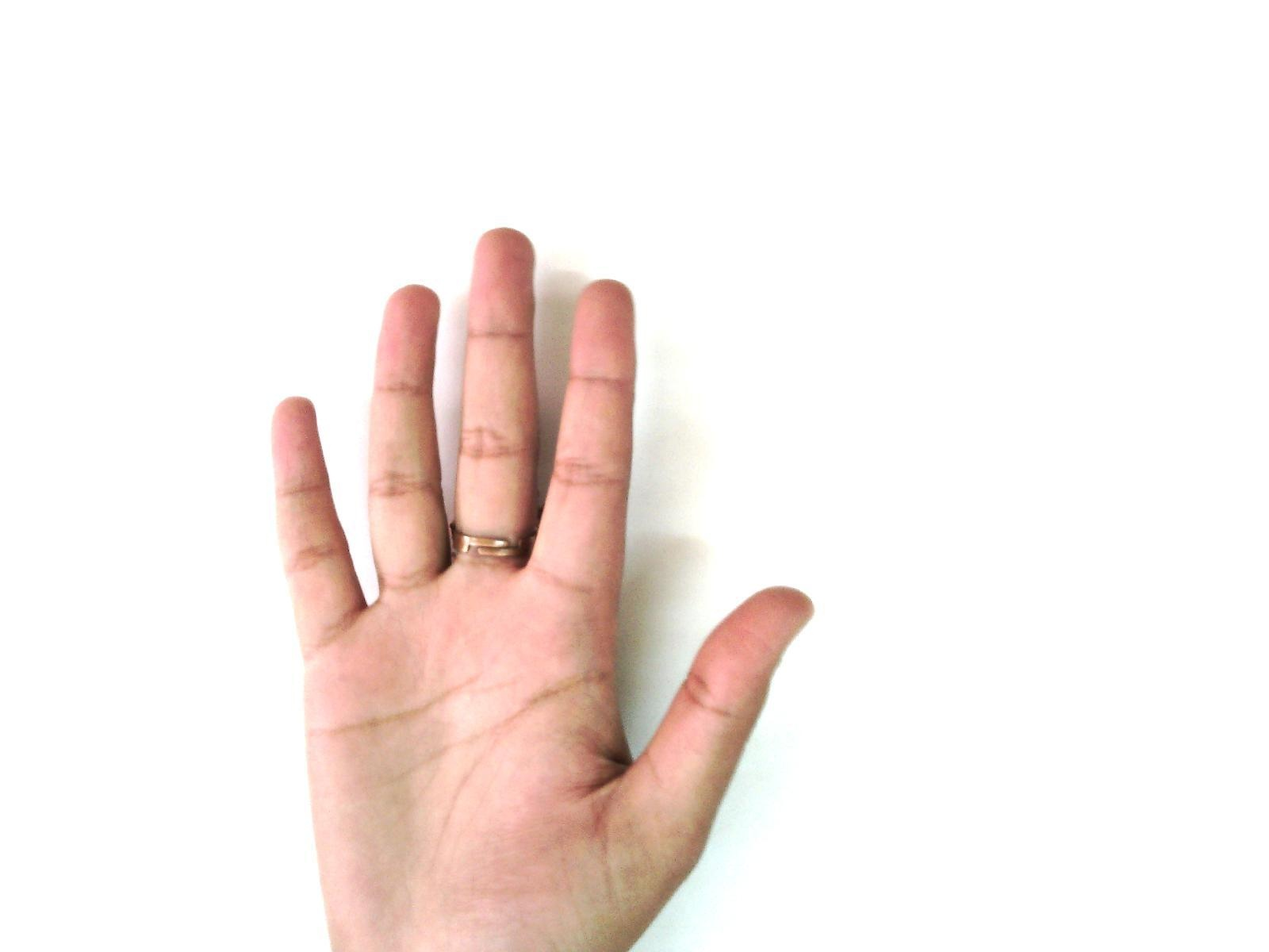open_palm: (267, 226, 817, 951)
